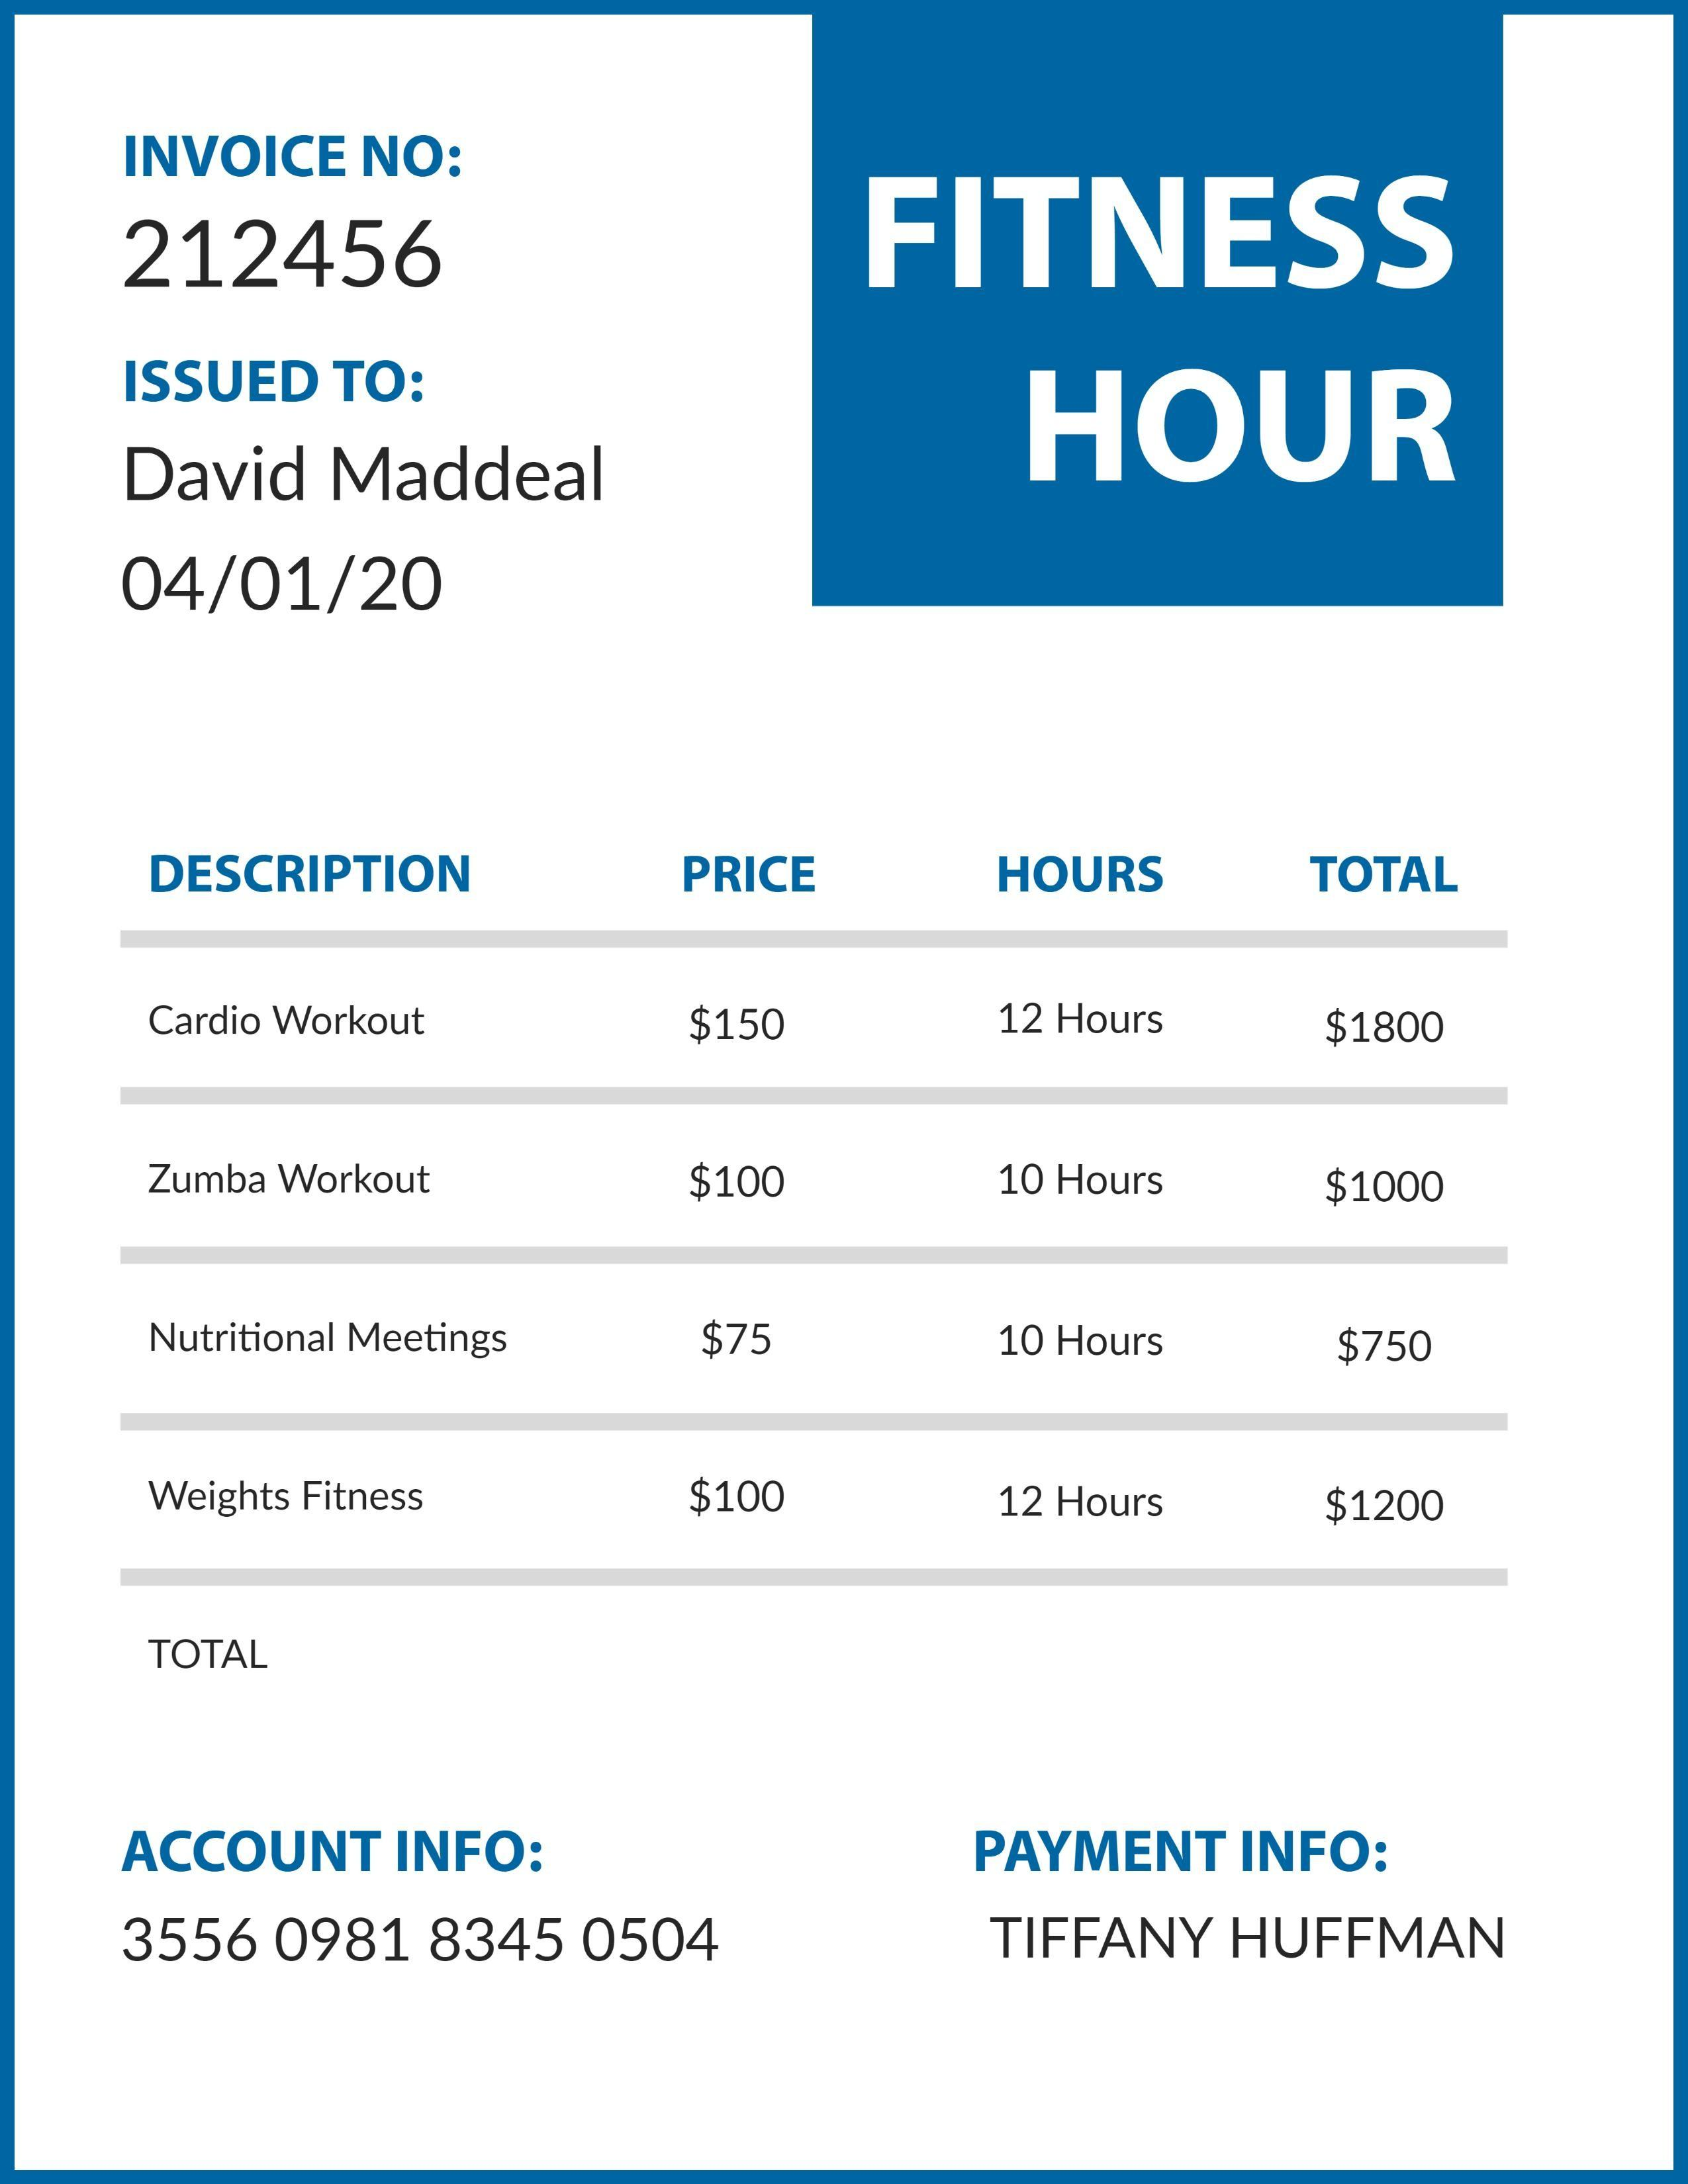ROI: (99, 823, 1530, 1597), (842, 142, 1481, 537), (108, 340, 644, 647), (947, 1798, 1532, 2010), (96, 108, 624, 308), (121, 1624, 535, 1723)
